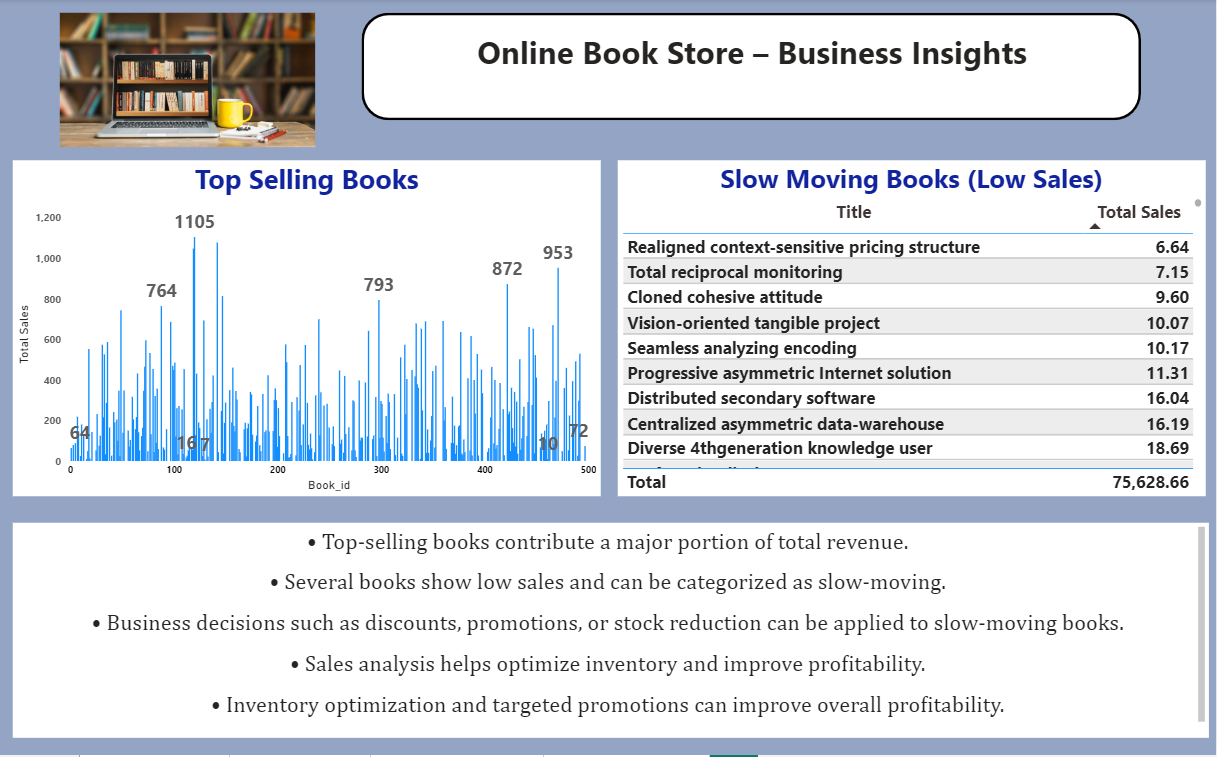

The page's visual inventory and layout, read from the dashboard file:
{"tool":"powerbi","page":{"name":"Business Insights","canvas":[1450,900],"ordinal":3},"visuals":[{"type":"clusteredColumnChart","title":"Top Selling Books","fields":{"Y":["online_bookstore orders.Total Sales1"],"Category":["online_bookstore books.Book_id"]},"box":[16,192,700,400],"z":0},{"type":"tableEx","title":"Slow Moving Books (Low Sales)","fields":{"Values":["online_bookstore books.Title","online_bookstore orders.Total Sales1"]},"box":[736,192,700,400],"z":1000},{"type":"textbox","box":[16,624,1424,256],"z":2000},{"type":"shape","box":[432,16,928,128],"z":3000},{"type":"textbox","box":[544,32,704,96],"z":4000},{"type":"image","box":[16,16,416,160],"z":5000}]}

Visuals, with their boxes in screenshot pixels (x1, y1, x2, y2), scaled from the page's 1450x900 canvas onto the 1217x757 screenshot:
"Top Selling Books" clusteredColumnChart: 13,161,601,498
"Slow Moving Books (Low Sales)" tableEx: 618,161,1205,498
textbox: 13,525,1209,740
shape: 363,13,1141,121
textbox: 457,27,1047,108
image: 13,13,363,148
